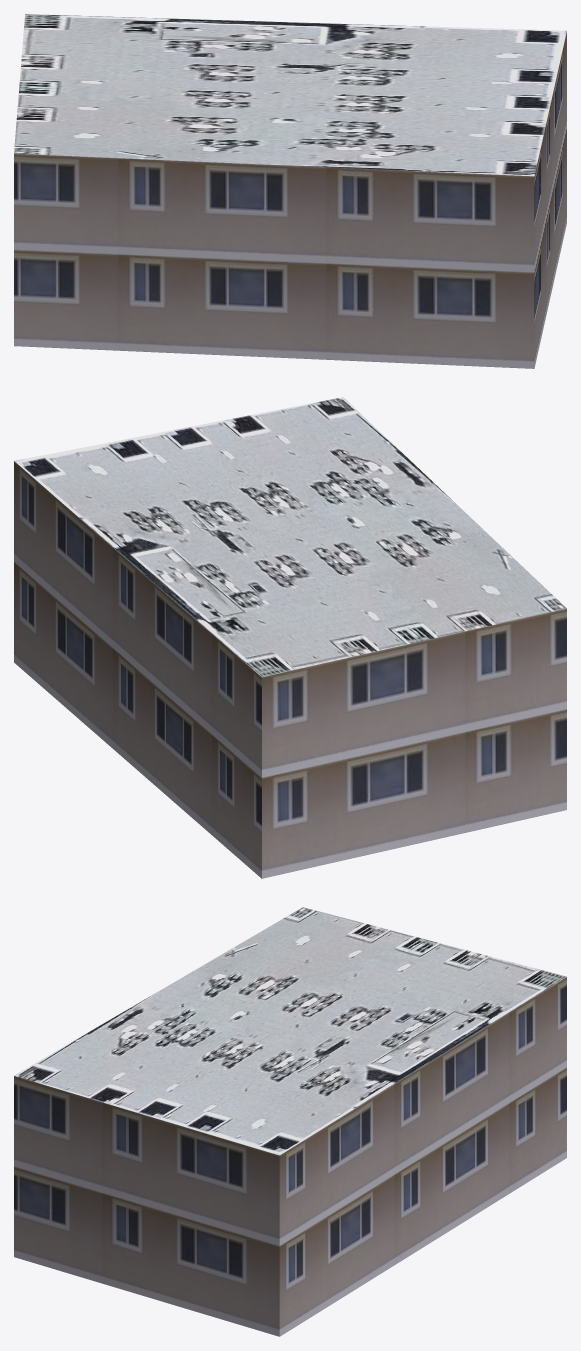
The model's file is ResTex__739.fbx.
The picture shows the model from 3 angles, top to bottom: view 1: azimuth 30°, elevation 25°; view 2: azimuth 150°, elevation 25°; view 3: azimuth 270°, elevation 25°; orthographic projection. The views are drawn at different scales.
Visible parts, largest first — view 1: CityEngineMaterial_21_m, CityEngineMaterial_8_m; view 2: CityEngineMaterial_21_m, CityEngineMaterial_8_m; view 3: CityEngineMaterial_21_m, CityEngineMaterial_8_m.
Part boxes in pixels (x1,y1,x2,y2): CityEngineMaterial_21_m: (14,32,566,368); CityEngineMaterial_8_m: (14,14,566,176); CityEngineMaterial_21_m: (14,461,566,878); CityEngineMaterial_8_m: (14,397,566,676); CityEngineMaterial_21_m: (14,977,566,1336); CityEngineMaterial_8_m: (14,907,566,1155).
Size of the model in its own units: 17.63 by 6 by 16.59.
2 materials, 2 textured.
